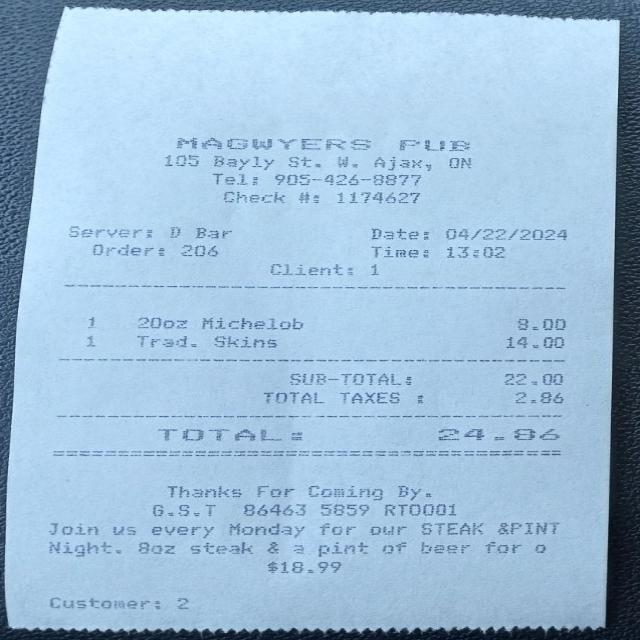item: (117, 309, 576, 334), (120, 331, 580, 354)
store_name: (164, 130, 484, 158)
total_amount: (151, 417, 574, 452)
transaction_date: (434, 223, 576, 246)
